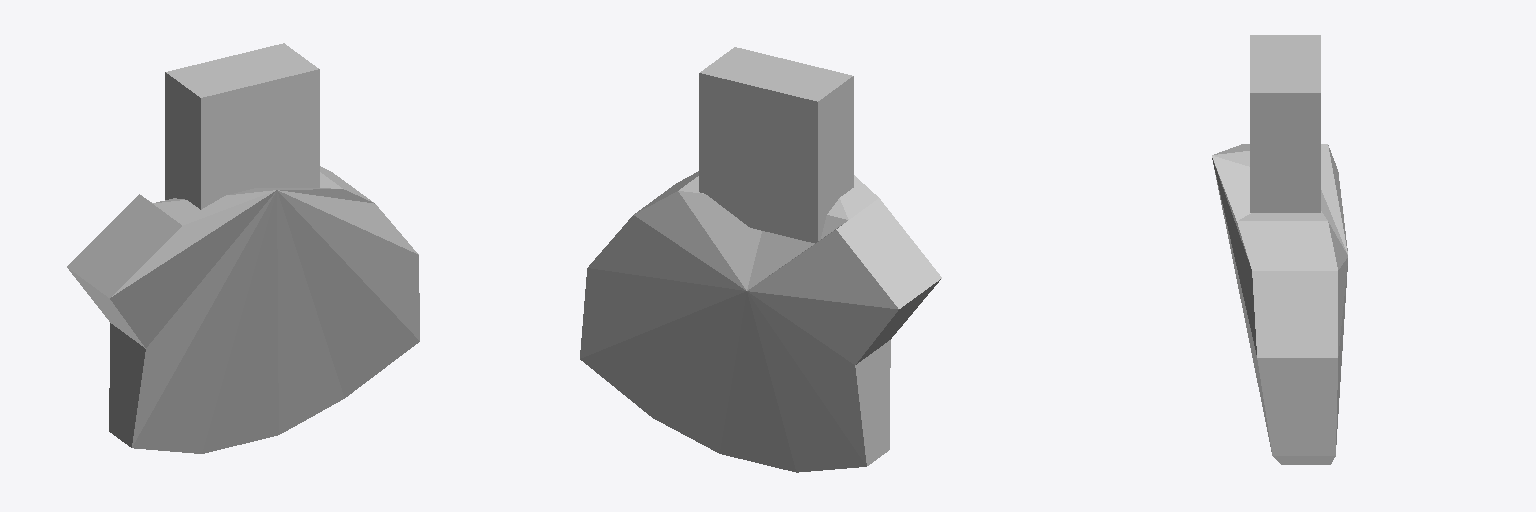
Rendered from leftPalm.obj.
3 renders of one model, left to right at view 1: azimuth 30°, elevation 25°; view 2: azimuth 150°, elevation 25°; view 3: azimuth 270°, elevation 25°, orthographic.
Parts seen in each view (by area): view 1: unnamed_object1; view 2: unnamed_object1; view 3: unnamed_object1.
Boxes of the visible parts, <box> form: unnamed_object1: <box>67,43,419,453</box>; unnamed_object1: <box>580,47,941,472</box>; unnamed_object1: <box>1212,35,1347,464</box>.
Bounding box in the file's own units: 7.3 × 8.1 × 2.7.